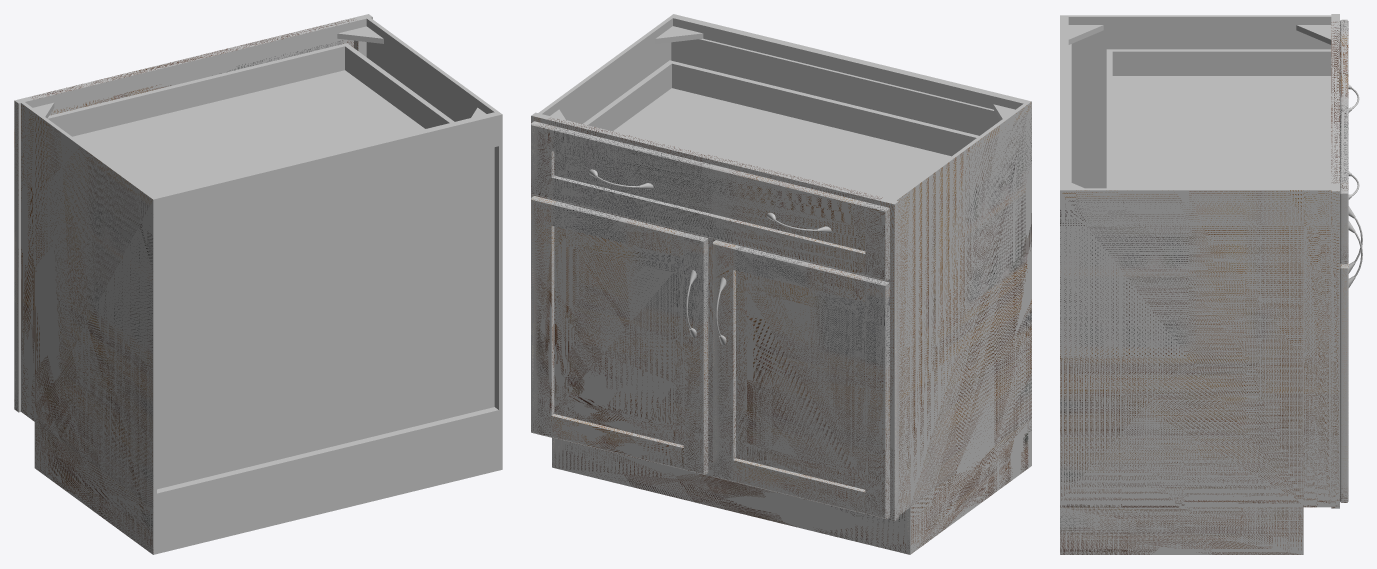
3 views of the same model, side by side, from view 1: azimuth 30°, elevation 25°; view 2: azimuth 150°, elevation 25°; view 3: azimuth 270°, elevation 25° (orthographic). The views are drawn at different scales.
Visible parts, largest first — view 1: mesh18_mesh18-geometry, mesh14_mesh14-geometry, mesh16_mesh16-geometry, mesh23_mesh23-geometry, mesh17_mesh17-geometry, mesh21_mesh21-geometry, mesh9_mesh9-geometry, mesh2_mesh2-geometry, mesh15_mesh15-geometry, mesh13_mesh13-geometry, mesh20_mesh20-geometry, mesh1_mesh1-geometry (+2 smaller); view 2: mesh14_mesh14-geometry, mesh47_mesh47-geometry, mesh60_mesh60-geometry, mesh23_mesh23-geometry, mesh19_mesh19-geometry, mesh18_mesh18-geometry, mesh21_mesh21-geometry, mesh29_mesh29-geometry, mesh30_mesh30-geometry, mesh15_mesh15-geometry, mesh17_mesh17-geometry, mesh34_mesh34-geometry (+28 smaller); view 3: mesh9_mesh9-geometry, mesh23_mesh23-geometry, mesh14_mesh14-geometry, mesh10_mesh10-geometry, mesh8_mesh8-geometry, mesh20_mesh20-geometry, mesh1_mesh1-geometry, mesh17_mesh17-geometry, mesh2_mesh2-geometry, mesh45_mesh45-geometry, mesh29_mesh29-geometry, mesh21_mesh21-geometry (+5 smaller).
Part boxes in pixels (left/top/right/bottom): mesh18_mesh18-geometry: left=157, top=147, right=494, bottom=489; mesh14_mesh14-geometry: left=34, top=112, right=156, bottom=508; mesh16_mesh16-geometry: left=157, top=407, right=498, bottom=553; mesh23_mesh23-geometry: left=72, top=70, right=424, bottom=193; mesh17_mesh17-geometry: left=153, top=112, right=498, bottom=229; mesh21_mesh21-geometry: left=47, top=44, right=344, bottom=136; mesh9_mesh9-geometry: left=380, top=27, right=502, bottom=423; mesh2_mesh2-geometry: left=29, top=17, right=358, bottom=110; mesh15_mesh15-geometry: left=34, top=422, right=156, bottom=554; mesh13_mesh13-geometry: left=21, top=102, right=37, bottom=421; mesh20_mesh20-geometry: left=342, top=43, right=454, bottom=128; mesh1_mesh1-geometry: left=14, top=14, right=372, bottom=412; mesh14_mesh14-geometry: left=907, top=100, right=1031, bottom=506; mesh47_mesh47-geometry: left=565, top=246, right=673, bottom=424; mesh60_mesh60-geometry: left=747, top=290, right=855, bottom=469; mesh23_mesh23-geometry: left=613, top=88, right=951, bottom=197; mesh19_mesh19-geometry: left=555, top=439, right=906, bottom=553; mesh18_mesh18-geometry: left=671, top=38, right=1000, bottom=135; mesh21_mesh21-geometry: left=672, top=61, right=978, bottom=156; mesh29_mesh29-geometry: left=563, top=129, right=856, bottom=225; mesh30_mesh30-geometry: left=563, top=176, right=855, bottom=272; mesh15_mesh15-geometry: left=906, top=418, right=1031, bottom=554; mesh17_mesh17-geometry: left=673, top=15, right=1027, bottom=109; mesh34_mesh34-geometry: left=565, top=155, right=855, bottom=246; mesh9_mesh9-geometry: left=1060, top=188, right=1303, bottom=507; mesh23_mesh23-geometry: left=1112, top=76, right=1331, bottom=188; mesh14_mesh14-geometry: left=1060, top=15, right=1303, bottom=188; mesh10_mesh10-geometry: left=1060, top=507, right=1303, bottom=554; mesh8_mesh8-geometry: left=1303, top=188, right=1331, bottom=507; mesh20_mesh20-geometry: left=1106, top=49, right=1331, bottom=75; mesh1_mesh1-geometry: left=1331, top=14, right=1339, bottom=508; mesh17_mesh17-geometry: left=1060, top=17, right=1068, bottom=188; mesh2_mesh2-geometry: left=1331, top=21, right=1339, bottom=183; mesh45_mesh45-geometry: left=1340, top=309, right=1348, bottom=461; mesh29_mesh29-geometry: left=1340, top=36, right=1348, bottom=177; mesh21_mesh21-geometry: left=1106, top=51, right=1112, bottom=188.
Bounding box in the file's own units: 0.6403 × 0.6137 × 0.462.
